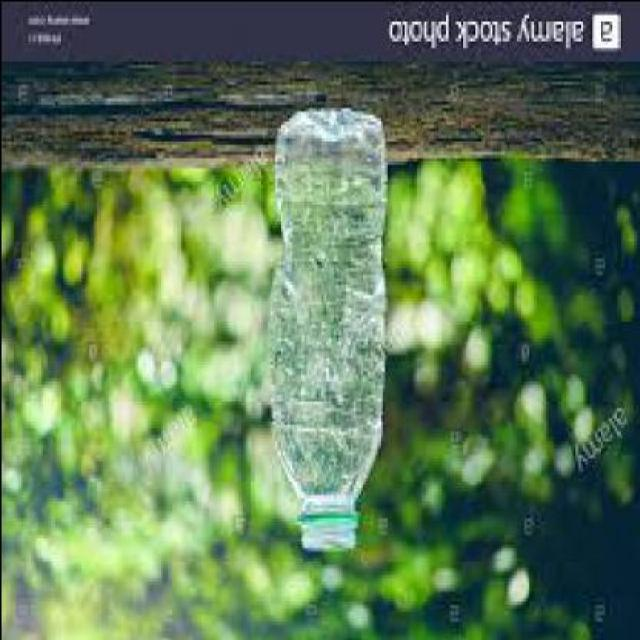PLASTIC: (273, 110, 389, 553)
